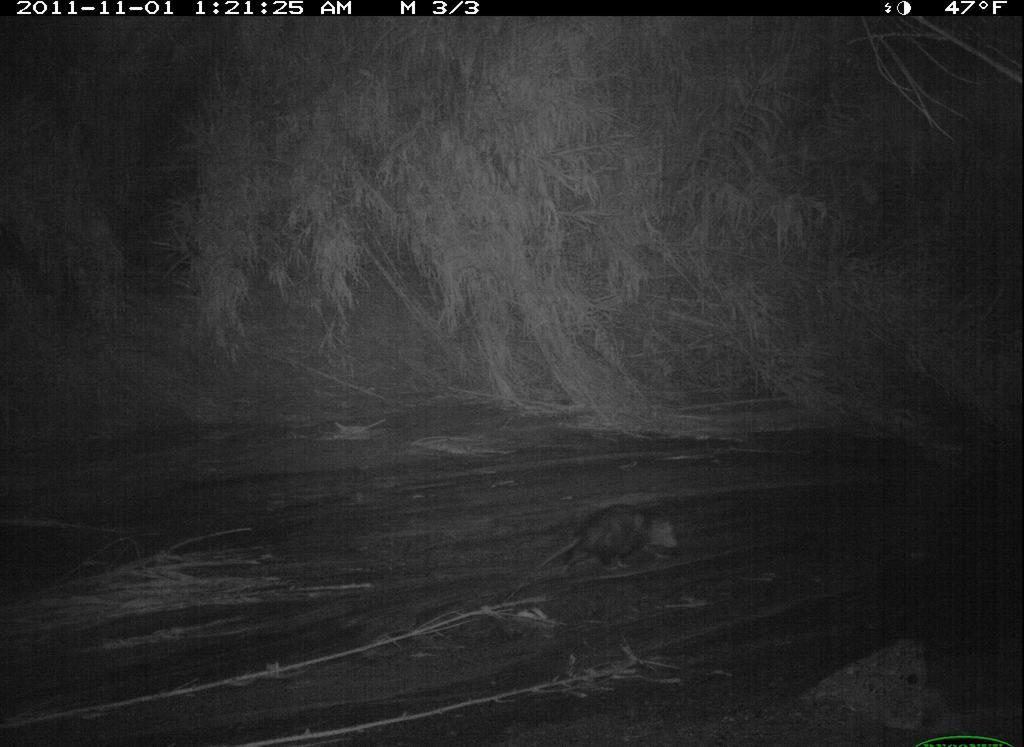opossum: (534, 502, 683, 583)
